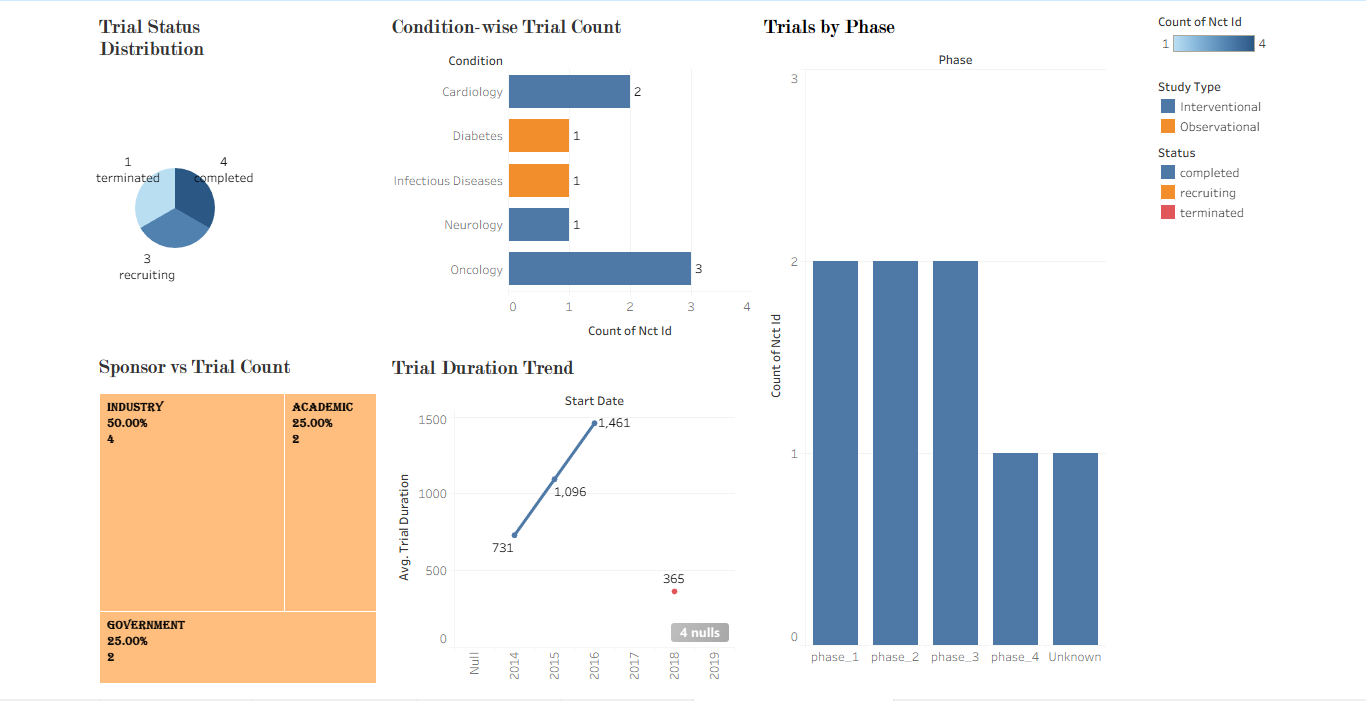

The page's visual inventory and layout, read from the dashboard file:
{"tool":"tableau","page":{"name":"Clinical Trial Insights Dashboard","canvas":[1000,1000],"units":"permille","ordinal":0},"visuals":[{"type":"title","box":[7.1,14.3,985.8,66.1]},{"type":"worksheet","title":"Trial Status Distribution","mark":"Pie","box":[7.1,80.4,241.8,451.8]},{"type":"worksheet","title":"Condition-wise Trial Count","mark":"Automatic","rows":["condition"],"cols":["nct_id"],"box":[249,80.4,307.6,452.7]},{"type":"worksheet","title":"Trials by Phase","mark":"Automatic","rows":["nct_id"],"cols":["phase"],"box":[556.5,80.4,328.7,905.3]},{"type":"legend","title":"Trial Status Distribution","param":"[federated.1onfnru0cabpat1ab1e1g13fnrcj].[cnt:nct_id:qk]","box":[885.2,80.4,107.7,116.1]},{"type":"legend","title":"Condition-wise Trial Count","param":"[federated.1onfnru0cabpat1ab1e1g13fnrcj].[none:study_type:nk]","box":[885.2,196.5,107.7,117.9]},{"type":"legend","title":"Trial Duration Trend ","param":"[federated.1onfnru0cabpat1ab1e1g13fnrcj].[none:status:nk]","box":[885.2,314.3,107.7,153.6]},{"type":"worksheet","title":"Sponsor vs Trial Count","mark":"Automatic","box":[7.1,532.1,241.8,453.6]},{"type":"worksheet","title":"Trial Duration Trend ","mark":"Automatic","rows":["trial_duration"],"cols":["start_date"],"box":[249,533,307.6,452.7]}]}

Visuals, with their boxes on the dashboard's canvas, which has no fixed pixel size, in thousandths of its width and height (x1, y1, x2, y2). These are canvas units, not pixel positions in the 1366x701 screenshot, which may show the page scaled, cropped or inside an application window:
title: x1=7, y1=14, x2=993, y2=80
"Trial Status Distribution" worksheet (Pie marks): x1=7, y1=80, x2=249, y2=532
"Condition-wise Trial Count" worksheet: x1=249, y1=80, x2=557, y2=533
"Trials by Phase" worksheet: x1=556, y1=80, x2=885, y2=986
"Trial Status Distribution" legend: x1=885, y1=80, x2=993, y2=196
"Condition-wise Trial Count" legend: x1=885, y1=196, x2=993, y2=314
"Trial Duration Trend " legend: x1=885, y1=314, x2=993, y2=468
"Sponsor vs Trial Count" worksheet: x1=7, y1=532, x2=249, y2=986
"Trial Duration Trend " worksheet: x1=249, y1=533, x2=557, y2=986
